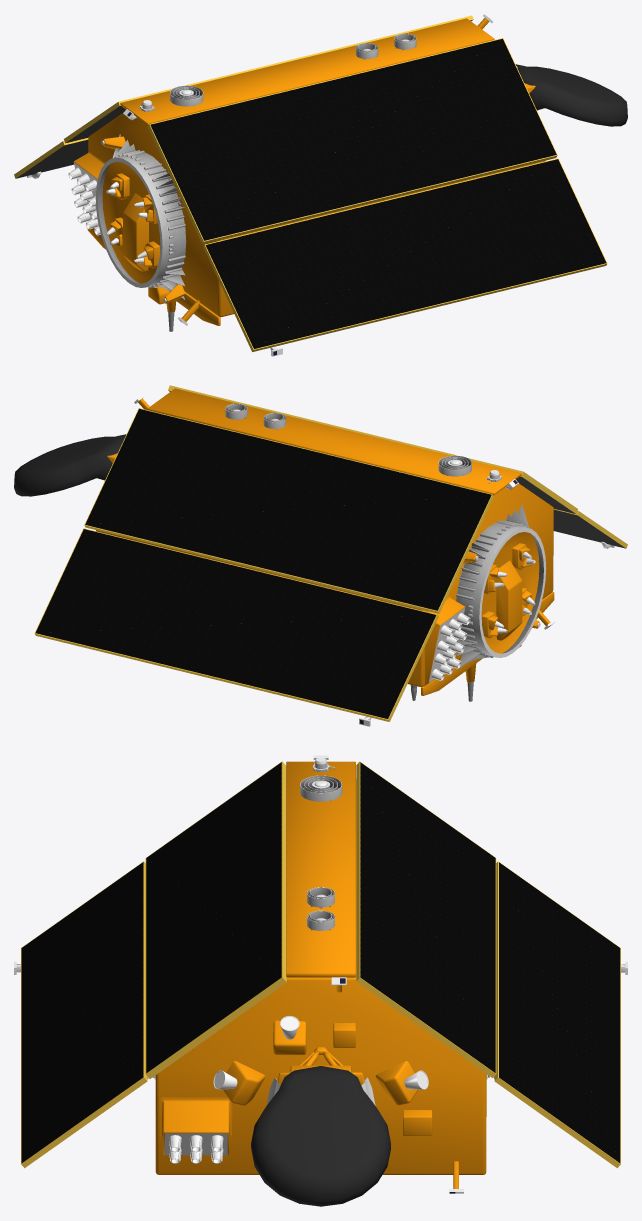
File: sentinel6.glb
3 views of the same model, one above another, from view 1: azimuth 30°, elevation 25°; view 2: azimuth 150°, elevation 25°; view 3: azimuth 270°, elevation 25° (orthographic). The views are drawn at different scales.
Visible parts, largest first — view 1: array, BUS, GNSS_POD_RO_SPA, AMR; view 2: array, BUS, GNSS_POD_RO_SPA, AMR; view 3: array, BUS, AMR, GNSS_POD_RO_SPA.
Boxes of the visible parts, bbox=[...] form: array: bbox=[14, 15, 607, 351]; BUS: bbox=[16, 14, 545, 356]; GNSS_POD_RO_SPA: bbox=[95, 33, 416, 299]; AMR: bbox=[515, 64, 627, 126]; array: bbox=[34, 385, 627, 721]; BUS: bbox=[96, 388, 625, 726]; GNSS_POD_RO_SPA: bbox=[225, 403, 546, 669]; AMR: bbox=[14, 434, 126, 496]; array: bbox=[21, 761, 620, 1168]; BUS: bbox=[14, 755, 627, 1193]; AMR: bbox=[251, 1066, 390, 1206]; GNSS_POD_RO_SPA: bbox=[300, 757, 342, 930].
Size of the model in its own units: 5.13 by 2.32 by 4.37.
Materials: 10 (5 with a texture image).
